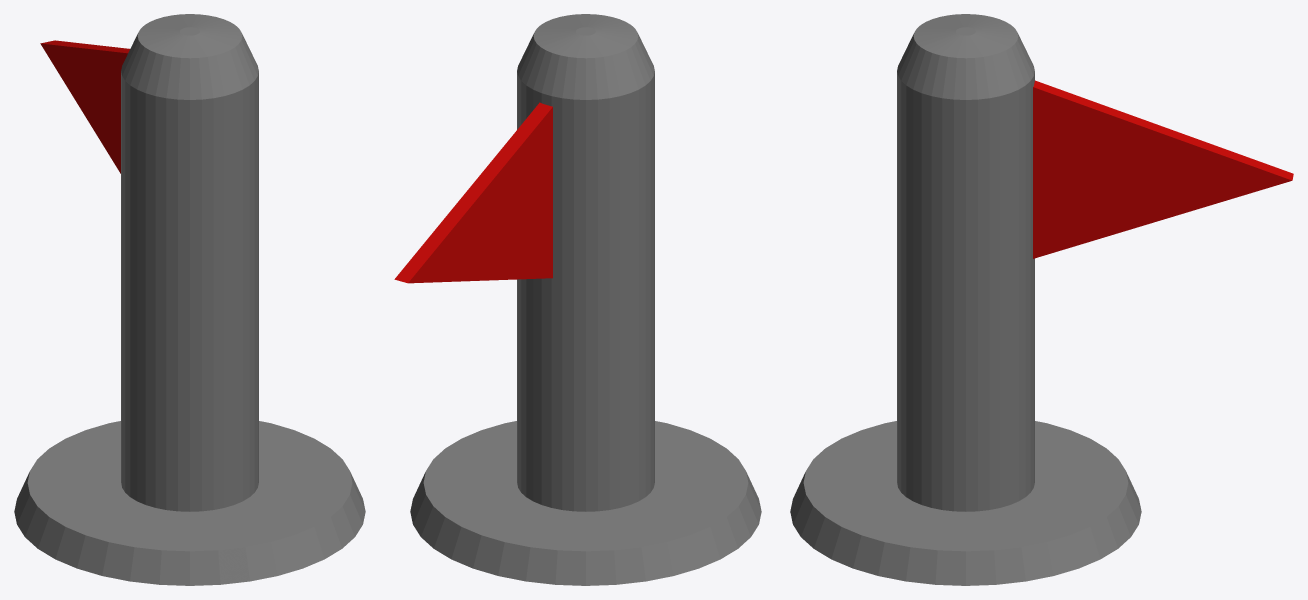
File: prapor.fbx
The picture shows the model from 3 angles, left to right: view 1: azimuth 30°, elevation 25°; view 2: azimuth 150°, elevation 25°; view 3: azimuth 270°, elevation 25°; orthographic projection.
Parts seen in each view (by area): view 1: Cube; view 2: Cube; view 3: Cube.
Boxes of the visible parts, left/top/right/bottom form: Cube: left=14, top=14, right=365, bottom=585; Cube: left=394, top=14, right=761, bottom=585; Cube: left=790, top=14, right=1293, bottom=585.
Size of the model in its own units: 200 by 302 by 287.
